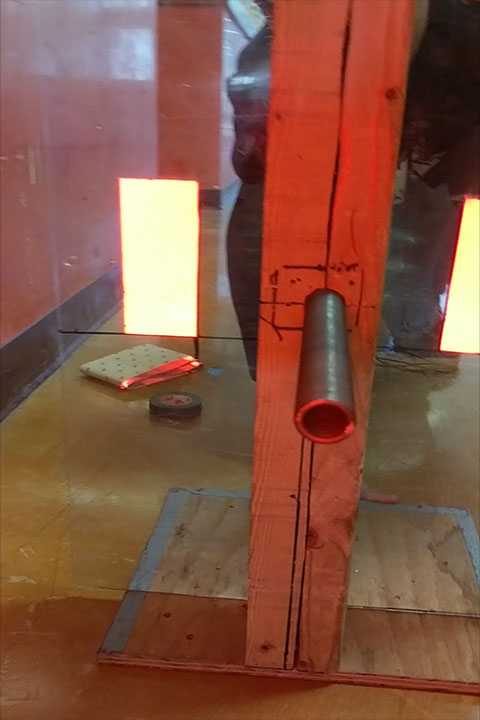gear: (117, 178, 199, 339), (438, 195, 480, 354)
